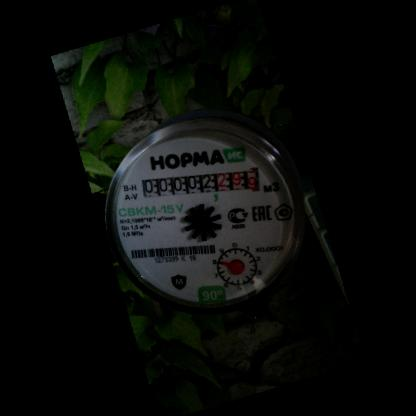digital_screen: (138, 167, 216, 200)
